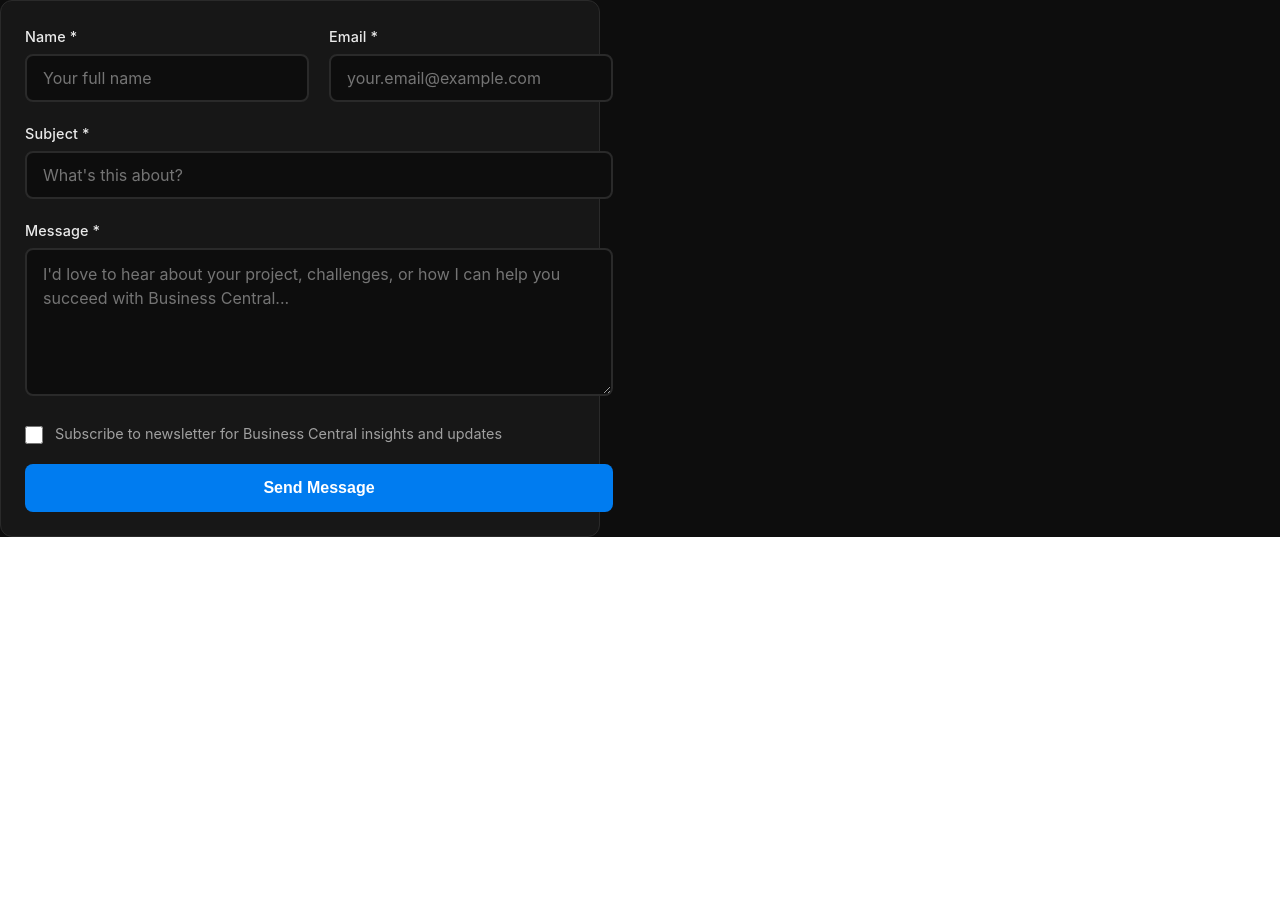
Test case: ContactForm Component › validates required fields
Step 1. Click the button "Send Message" → [319, 488], box [25,464,613,512]
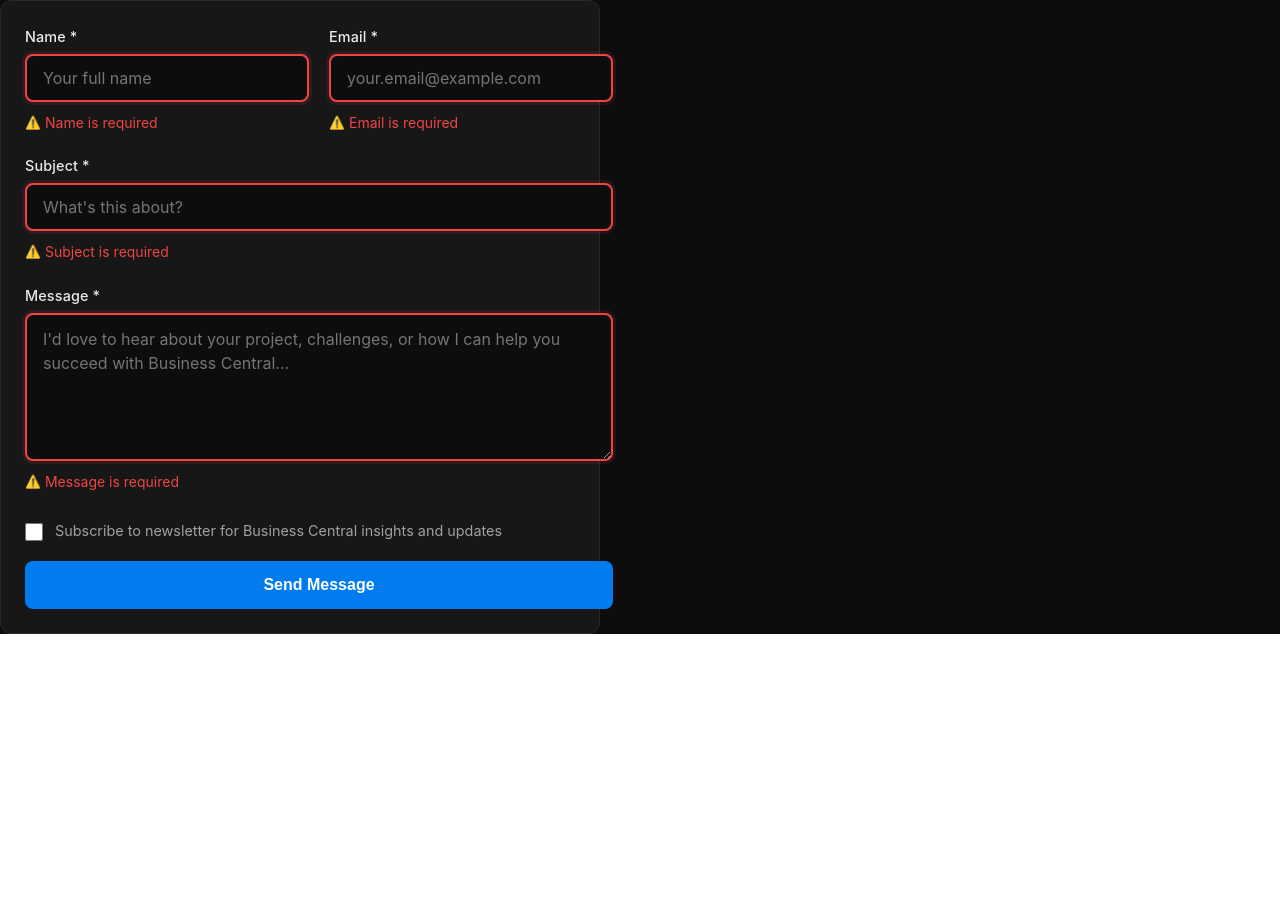
Now the text "Name is required" is shown, box [45,114,158,131]
Now the text "Email is required" is shown, box [349,114,458,131]
Now the text "Message is required" is shown, box [45,473,179,490]
